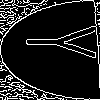Y: (25, 25, 100, 59)
